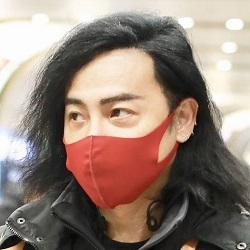mask: (56, 82, 181, 209)
